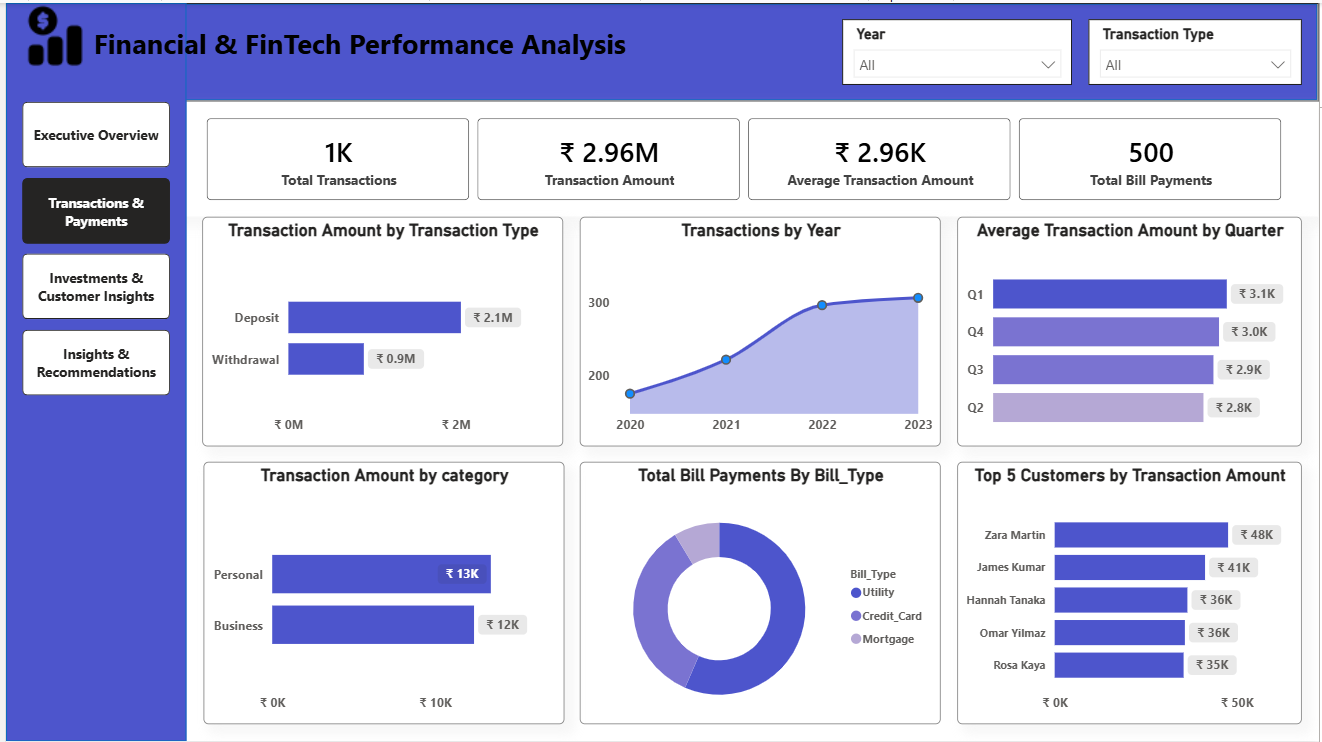

The dashboard page shown, as its layout file describes it:
{"tool":"powerbi","page":{"name":"Transactions & Payments","canvas":[1280,720],"ordinal":1},"visuals":[{"type":"shape","box":[0,0,1280,96],"z":0},{"type":"cardVisual","fields":{"Data":["Measure_Table.Total Transactions","Measure_Table.Total Transaction Amount","Measure_Table.Average Transaction Amount","Measure_Table.Total Bill Payments"]},"box":[160,96,1120,112],"z":1000},{"type":"barChart","title":"Transaction Amount by Transaction Type","fields":{"Y":["Measure_Table.Total Transaction Amount"],"Category":["fact_Transaction_ table.transaction_type"]},"box":[192,208,352,224],"z":2000},{"type":"areaChart","title":"Transactions by Year","fields":{"Category":["Dim_Date.Year"],"Y":["Measure_Table.Total Transactions"]},"box":[560,208,352,224],"z":3000},{"type":"donutChart","title":"Total Bill Payments  By Bill_Type","fields":{"Y":["Measure_Table.Total Bill Amount"],"Category":["Fact_bill_payments.bill_type"]},"box":[560,448,352,256],"z":4000},{"type":"shape","box":[0,0,176,720],"z":5000},{"type":"slicer","fields":{"Values":["Dim_Date.Year"]},"box":[816,16,224,64],"z":6000},{"type":"slicer","fields":{"Values":["fact_Transaction_ table.transaction_type"]},"box":[1056,16,208,64],"z":7000},{"type":"textbox","box":[80,16,576,48],"z":8000},{"type":"pageNavigator","box":[16,96,144,288],"z":9000},{"type":"barChart","fields":{"Category":["Dim_transaction_types.category"],"Y":["Measure_Table.Total Transaction Amount"]},"box":[192,448,352,256],"z":10000},{"type":"barChart","fields":{"Category":["Dim_Date.Quarter"],"Y":["Measure_Table.Average Transaction Amount"]},"box":[928,208,336,224],"z":11000},{"type":"clusteredBarChart","title":"Top 5 Customers by Transaction Amount ","fields":{"Category":["Dim_Customers.full_name"],"Y":["Measure_Table.Total Transaction Amount"]},"box":[928,448,336,256],"z":12000},{"type":"image","box":[0,0,96,64],"z":13000}]}

Visuals, with their boxes in screenshot pixels (x1, y1, x2, y2), scaled from the page's 1280x720 canvas onto the 1322x742 screenshot:
shape: 0/0/1321/99
cardVisual - Measure_Table.Total Transactions x Measure_Table.Total Transaction Amount: 165/99/1321/214
"Transaction Amount by Transaction Type" barChart: 198/214/562/445
"Transactions by Year" areaChart: 578/214/942/445
"Total Bill Payments  By Bill_Type" donutChart: 578/462/942/726
shape: 0/0/182/741
slicer - Dim_Date.Year: 843/16/1074/82
slicer - fact_Transaction_ table.transaction_type: 1091/16/1305/82
textbox: 83/16/678/66
pageNavigator: 17/99/165/396
barChart - Dim_transaction_types.category x Measure_Table.Total Transaction Amount: 198/462/562/726
barChart - Dim_Date.Quarter x Measure_Table.Average Transaction Amount: 958/214/1305/445
"Top 5 Customers by Transaction Amount " clusteredBarChart: 958/462/1305/726
image: 0/0/99/66
